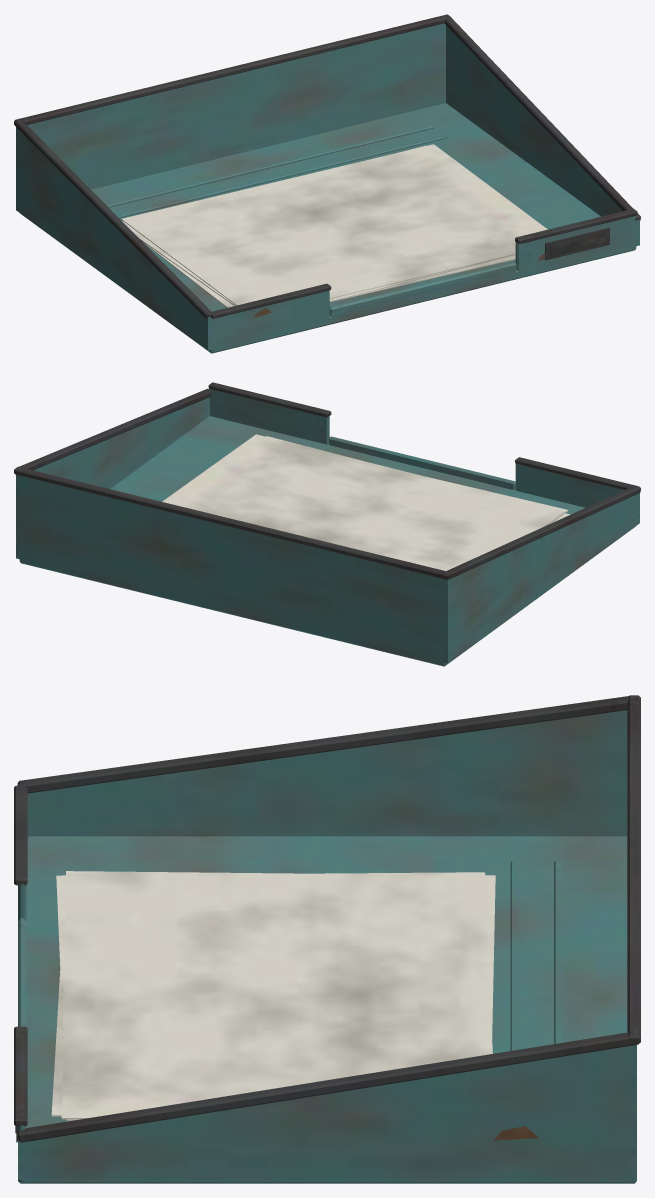
Rendered from O32_filing_tray.glb.
3 views of the same model, one above another, from view 1: azimuth 30°, elevation 25°; view 2: azimuth 150°, elevation 25°; view 3: azimuth 270°, elevation 25° (orthographic). The views are drawn at different scales.
Parts seen in each view (by area): view 1: Rubber foot; view 2: Rubber foot; view 3: Rubber foot.
Boxes of the visible parts, x1=… form: Rubber foot: x1=14, y1=14, x2=640, y2=353; Rubber foot: x1=14, y1=382, x2=640, y2=666; Rubber foot: x1=14, y1=695, x2=640, y2=1183.
Bounding box in the file's own units: 0.3 × 0.0685 × 0.2326.
5 materials, 5 textured.
